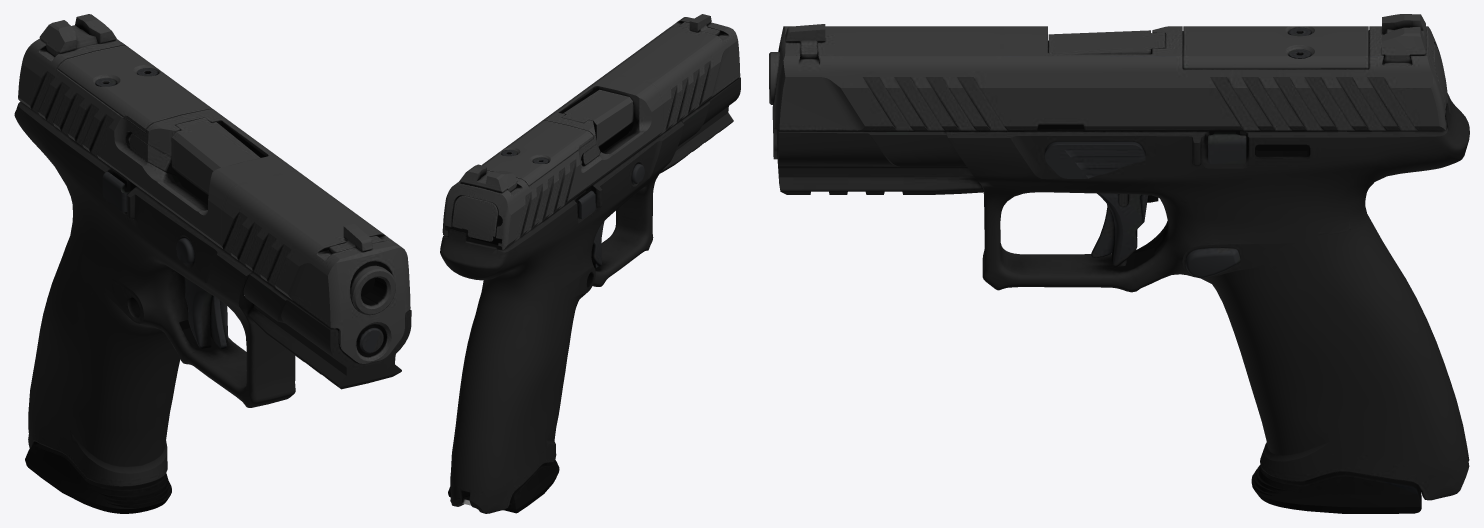
The model's file is pistolet.glb.
The picture shows the model from 3 angles, left to right: view 1: azimuth 30°, elevation 25°; view 2: azimuth 150°, elevation 25°; view 3: azimuth 270°, elevation 25°; orthographic projection. The views are drawn at different scales.
Size of the model in its own units: 3.33 by 14.02 by 19.07.
1 material, 1 textured.
